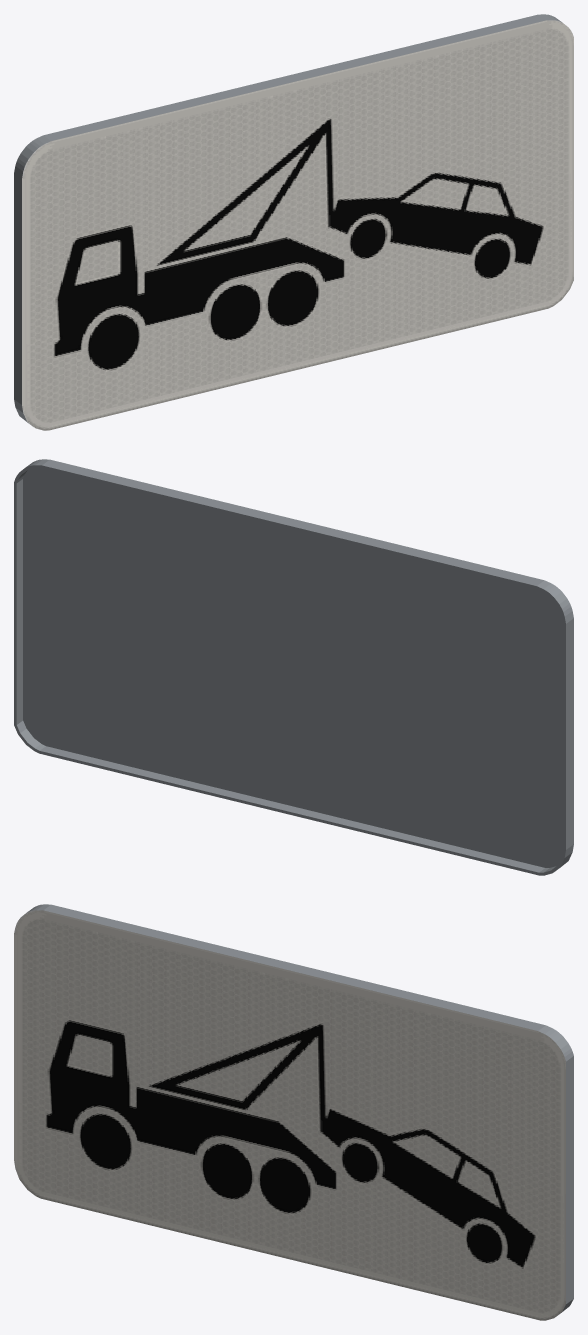
3 renders of one model, top to bottom at view 1: azimuth 30°, elevation 25°; view 2: azimuth 150°, elevation 25°; view 3: azimuth 330°, elevation 25°, orthographic.
Parts seen in each view (by area): view 1: cat_a6f1c06c03f00888; view 2: cat_a6f1c06c03f00888; view 3: cat_a6f1c06c03f00888.
Part boxes in pixels (x1,y1,x2,y2): cat_a6f1c06c03f00888: [14, 14, 573, 430]; cat_a6f1c06c03f00888: [14, 459, 573, 875]; cat_a6f1c06c03f00888: [14, 904, 573, 1320].
Size of the model in its own units: 0.6 by 0.015 by 0.3.
Materials: 2 (1 with a texture image).
